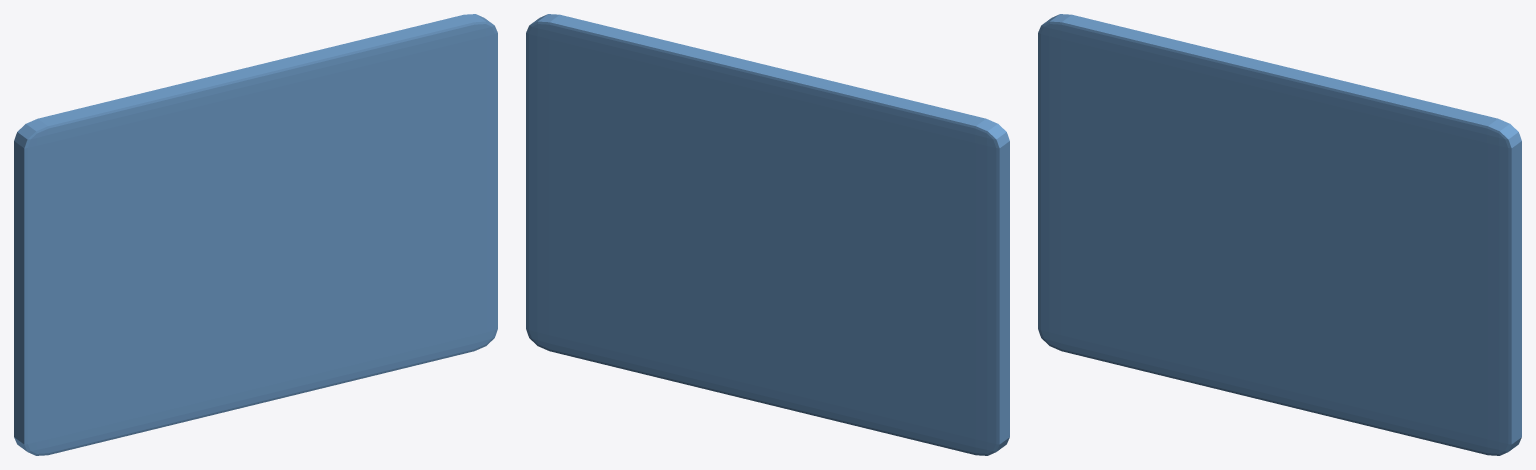
Rendered from categories.fbx.
3 views of the same model, side by side, from view 1: azimuth 30°, elevation 25°; view 2: azimuth 150°, elevation 25°; view 3: azimuth 330°, elevation 25° (orthographic).
Visible parts, largest first — view 1: Cube; view 2: Cube; view 3: Cube.
Part boxes in pixels (box(x1,y1,x2,y2)): Cube: box(14, 14, 497, 455); Cube: box(526, 14, 1009, 455); Cube: box(1038, 14, 1521, 455).
Size of the model in its own units: 23.8 by 15.8 by 1.
